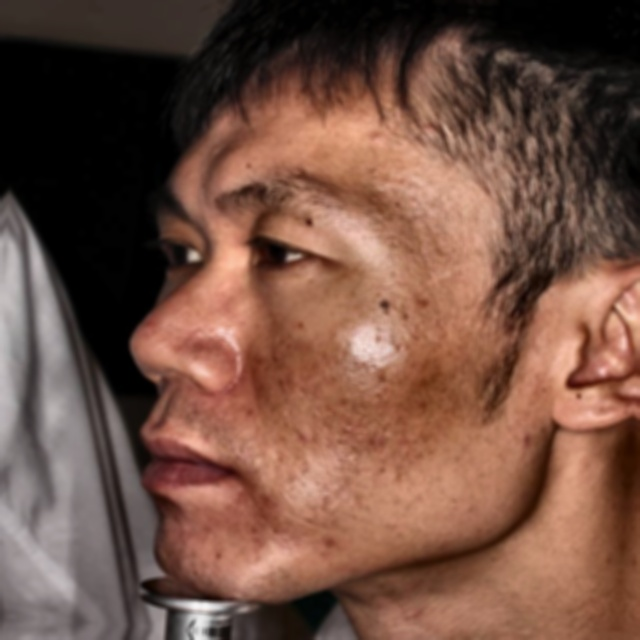comedone: (368, 126, 395, 152), (136, 316, 158, 340)
